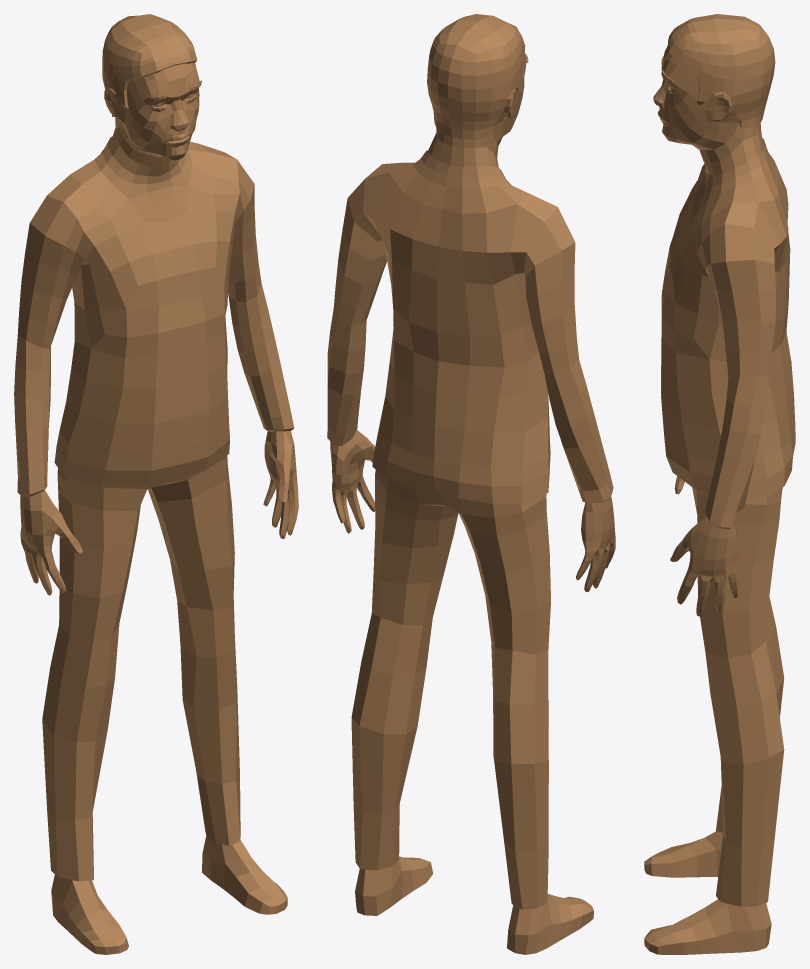
Rendered from abdo.fbx.
3 renders of one model, left to right at view 1: azimuth 30°, elevation 25°; view 2: azimuth 150°, elevation 25°; view 3: azimuth 270°, elevation 25°, orthographic.
Visible parts, largest first — view 1: Human 2; view 2: Human 2; view 3: Human 2.
Part boxes in pixels (x1,y1,x2,y2): Human 2: (14,14,298,954); Human 2: (327,14,615,954); Human 2: (644,14,795,954).
Bounding box in the file's own units: 54.02 × 167 × 25.99.
